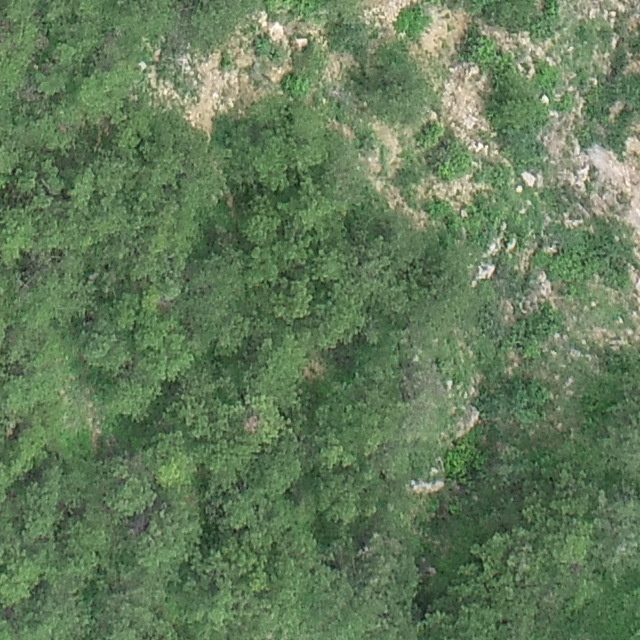unhealthy: (244, 413, 260, 431)
